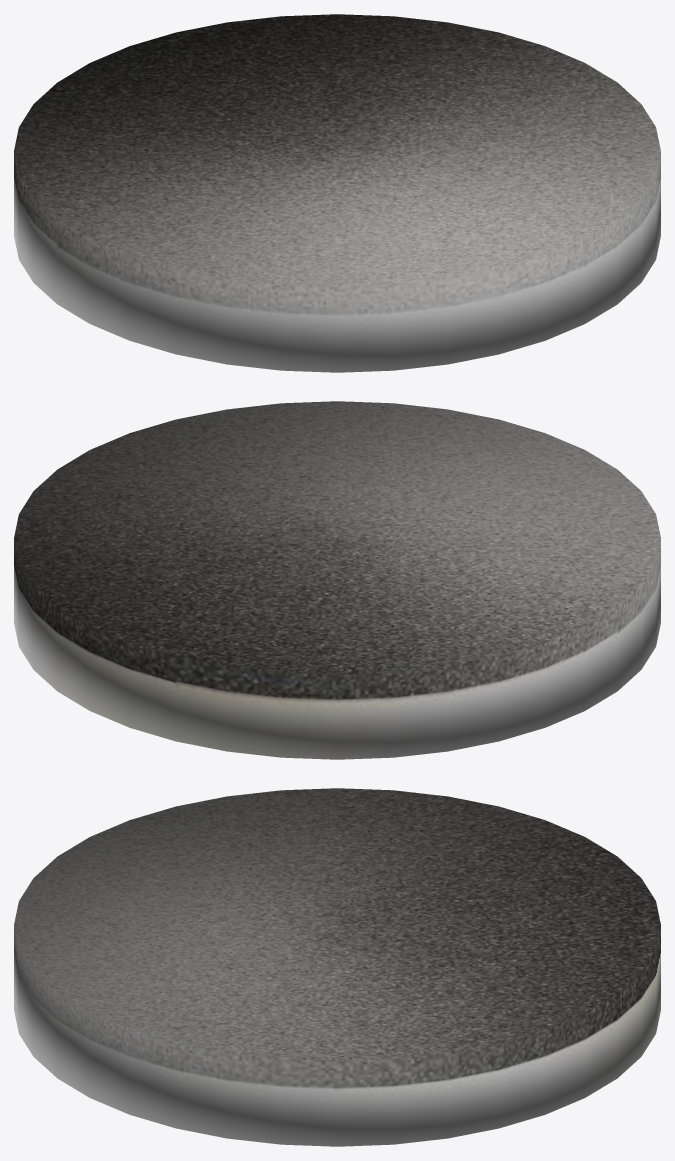
The picture shows the model from 3 angles, top to bottom: view 1: azimuth 30°, elevation 25°; view 2: azimuth 150°, elevation 25°; view 3: azimuth 270°, elevation 25°; orthographic projection.
Visible parts, largest first — view 1: R7_final.001; view 2: R7_final.001; view 3: R7_final.001.
Part boxes in pixels (<box>): R7_final.001: <box>14,14,660,372</box>; R7_final.001: <box>14,401,660,759</box>; R7_final.001: <box>14,788,660,1146</box>.
Size of the model in its own units: 0.31 by 0.0585 by 0.31.
1 material, 1 textured.
